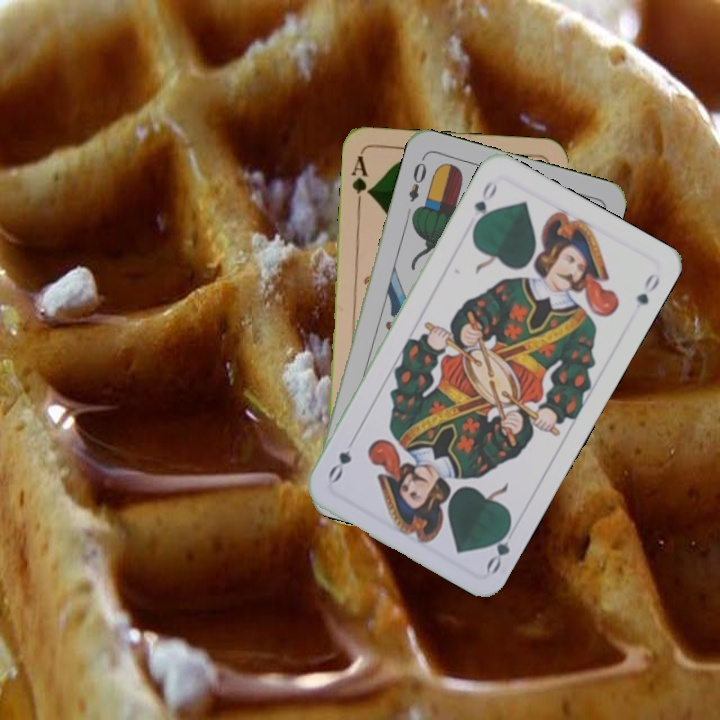EO: (404, 153, 429, 205)
GA: (347, 152, 374, 210)
GO: (482, 518, 520, 576), (469, 176, 500, 232)
